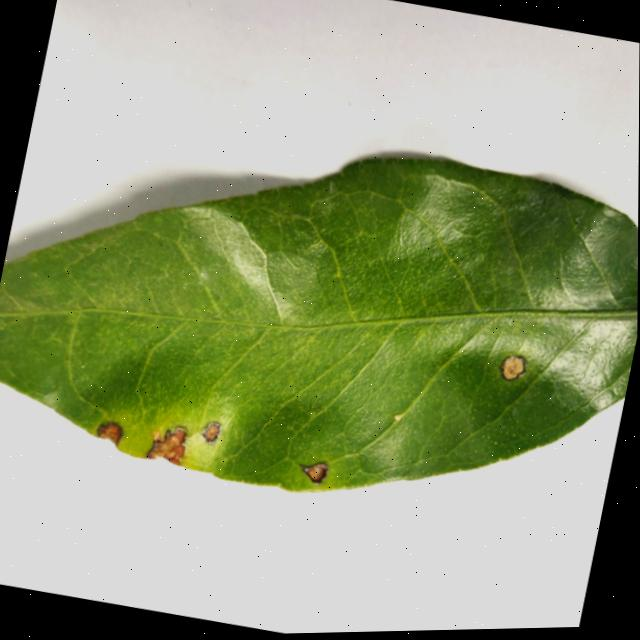antracnose: (0, 157, 638, 489), (146, 427, 185, 463), (500, 355, 525, 380), (97, 421, 122, 444), (300, 462, 328, 482), (202, 421, 220, 443)
